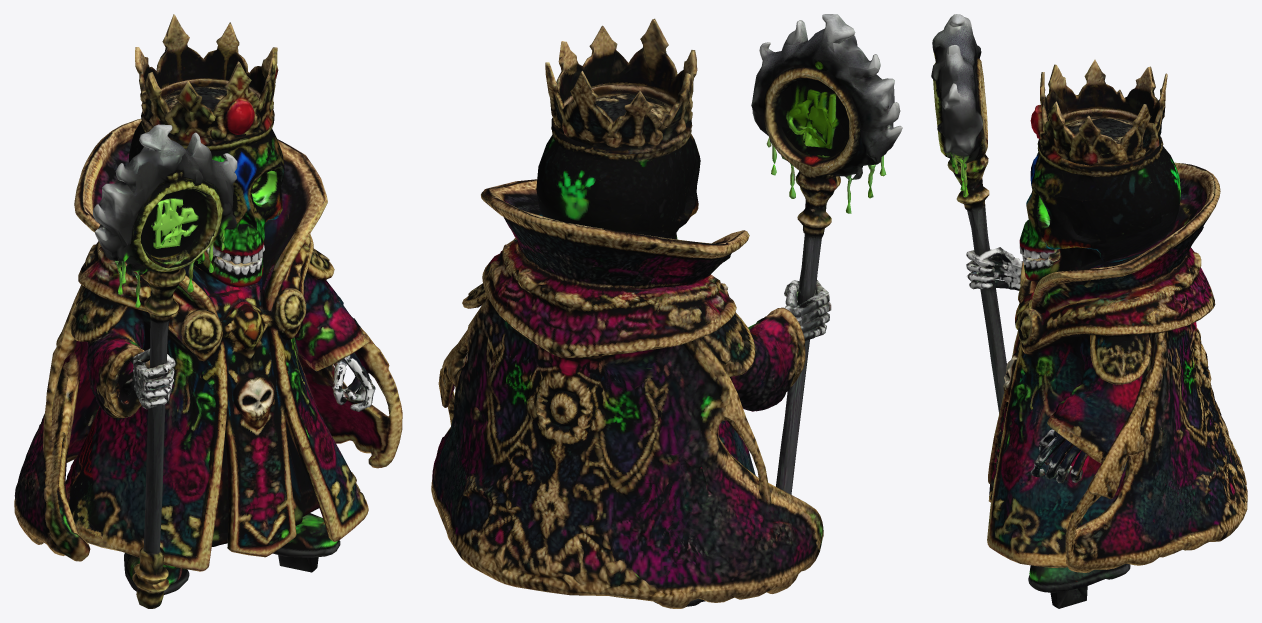
The model's file is lifoladen-raw.glb.
3 views of the same model, side by side, from view 1: azimuth 30°, elevation 25°; view 2: azimuth 150°, elevation 25°; view 3: azimuth 270°, elevation 25° (orthographic). The views are drawn at different scales.
Size of the model in its own units: 1.37 by 1.9 by 1.09.
1 material, 1 textured.
